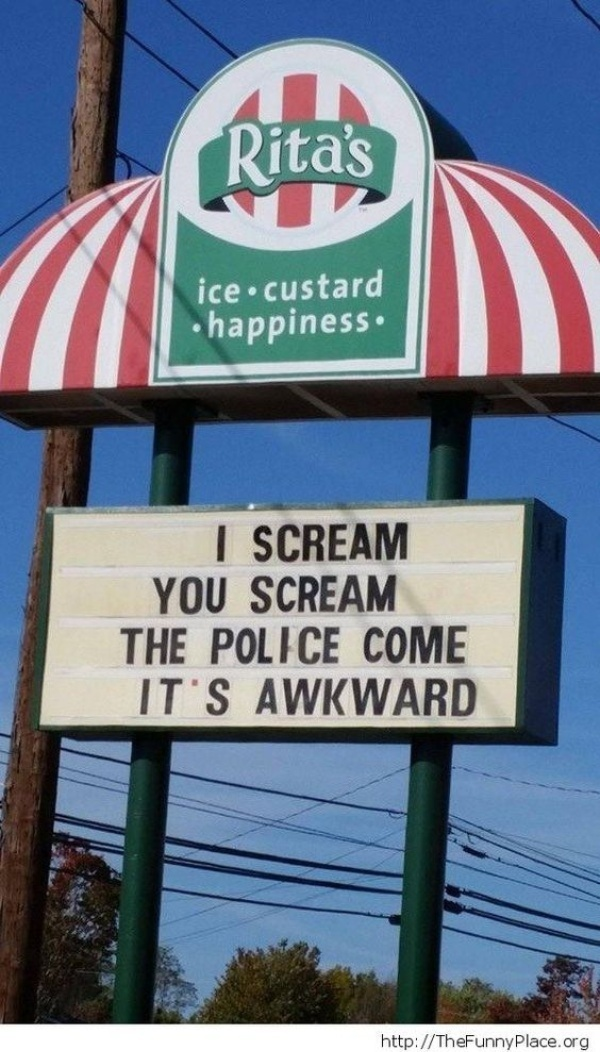text: (225, 123, 240, 189), (241, 123, 256, 189), (257, 123, 272, 189), (273, 123, 288, 189), (289, 123, 304, 189), (305, 123, 320, 189), (321, 123, 336, 189), (337, 123, 352, 189), (353, 123, 368, 189), (353, 304, 369, 346), (257, 522, 272, 564), (273, 522, 288, 564), (289, 522, 304, 564), (305, 522, 320, 564), (321, 522, 336, 564), (337, 522, 352, 564), (353, 522, 368, 564), (369, 522, 384, 564), (385, 522, 400, 564), (209, 304, 224, 346), (225, 304, 240, 346), (241, 304, 256, 346), (257, 304, 272, 346), (273, 304, 288, 346), (289, 304, 304, 346), (305, 304, 320, 346), (321, 304, 336, 346), (337, 304, 352, 346), (161, 575, 176, 616), (177, 575, 192, 616), (193, 575, 208, 616), (209, 575, 224, 616), (257, 573, 272, 614), (273, 573, 288, 614), (289, 573, 304, 614), (305, 573, 320, 614), (321, 573, 336, 614), (337, 573, 352, 614), (353, 573, 368, 614), (369, 573, 384, 614), (209, 625, 224, 666), (225, 625, 240, 666), (241, 625, 256, 666), (257, 625, 272, 666), (273, 625, 288, 666), (289, 625, 304, 666), (305, 625, 320, 666), (321, 625, 336, 666), (273, 676, 288, 717), (289, 676, 304, 717), (305, 676, 320, 717), (321, 676, 336, 717), (337, 676, 352, 717), (353, 676, 368, 717), (369, 676, 384, 717), (385, 676, 400, 717), (401, 676, 416, 717), (417, 676, 432, 717), (433, 676, 448, 717), (449, 676, 464, 717), (369, 625, 384, 665), (385, 625, 400, 665), (401, 625, 416, 665), (417, 625, 432, 665), (433, 625, 448, 665), (449, 625, 464, 665), (129, 626, 144, 666), (145, 626, 160, 666), (161, 626, 176, 666), (145, 677, 160, 716), (161, 677, 176, 716), (177, 677, 192, 716), (193, 677, 208, 716), (209, 677, 224, 716), (385, 573, 398, 614), (465, 676, 478, 717), (369, 123, 377, 189), (273, 269, 288, 304), (289, 269, 304, 304), (305, 269, 320, 304), (321, 269, 336, 304), (337, 269, 352, 304), (353, 269, 368, 304), (369, 269, 384, 304), (209, 277, 224, 307), (225, 277, 240, 307), (177, 626, 188, 666), (401, 522, 411, 564), (247, 573, 256, 614), (263, 676, 272, 717), (197, 277, 208, 307), (152, 575, 160, 616), (216, 524, 224, 565), (360, 625, 368, 665), (120, 626, 128, 666), (337, 625, 343, 666), (265, 269, 272, 304), (225, 677, 231, 716), (251, 522, 256, 564), (225, 524, 229, 565), (465, 625, 469, 665), (140, 677, 144, 716), (225, 575, 228, 616), (207, 625, 208, 666), (385, 269, 386, 304), (241, 277, 242, 307)
